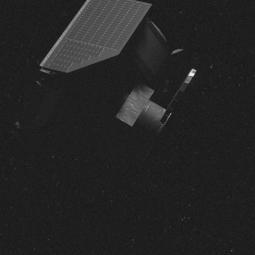cheops: (33, 0, 196, 154)
